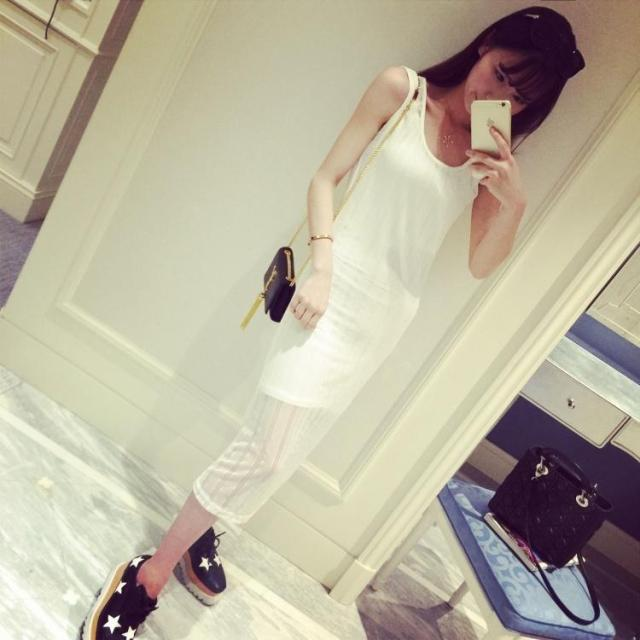vest dress: (192, 68, 508, 523)
